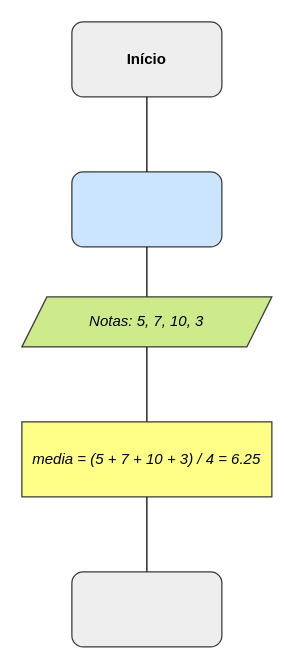
Image size: 294x669. Some labels were removed from this diagram. Here are the shapes that lost their labels. From the top down, the centre of each, then its label:
At (146,209): "Média Aritmética".
At (146,609): "Fim".
